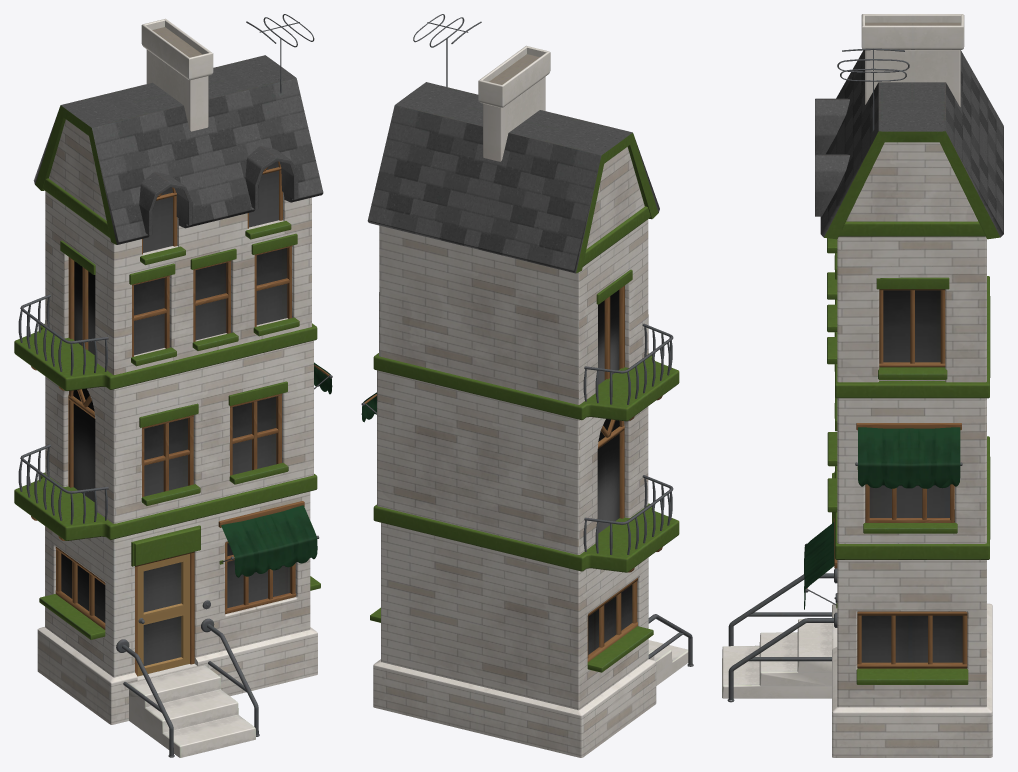
Rendered from small-city-building2.glb.
3 renders of one model, left to right at view 1: azimuth 30°, elevation 25°; view 2: azimuth 150°, elevation 25°; view 3: azimuth 270°, elevation 25°, orthographic. The views are drawn at different scales.
Parts seen in each view (by area): view 1: small_city_building_2.1; view 2: small_city_building_2.1; view 3: small_city_building_2.1.
Part boxes in pixels (<box>): small_city_building_2.1: <box>14,14,332,757</box>; small_city_building_2.1: <box>361,14,693,757</box>; small_city_building_2.1: <box>722,14,1003,757</box>.
Size of the model in its own units: 0.0717 by 0.1639 by 0.0607.
Materials: 1 (1 with a texture image).
